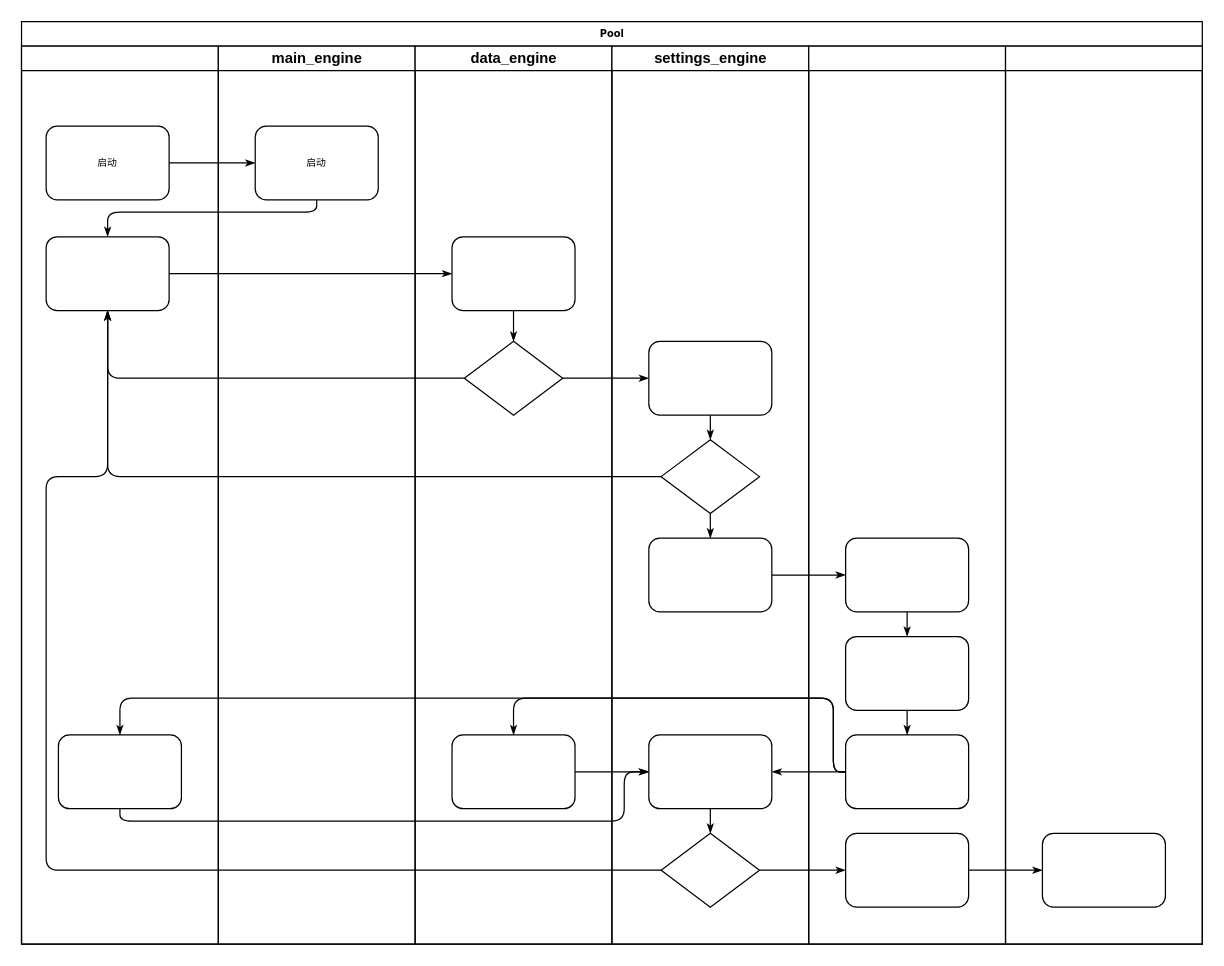
The diagram is 1224 pixels wide and 966 high, and some of its shapes have lost their labels. The shapes that lost their labels are listed below. From the top down, each one's box as (x1, y1, x2, y2) in pixels, then its label:
(20, 45, 218, 944): ui
(807, 45, 1006, 944): account_engine
(1004, 45, 1202, 944): Lane 6
